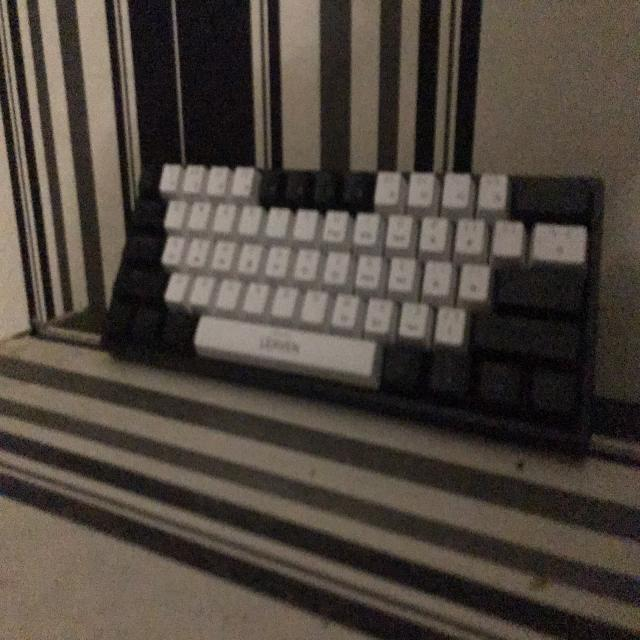-mouse-: (92, 156, 602, 425)
